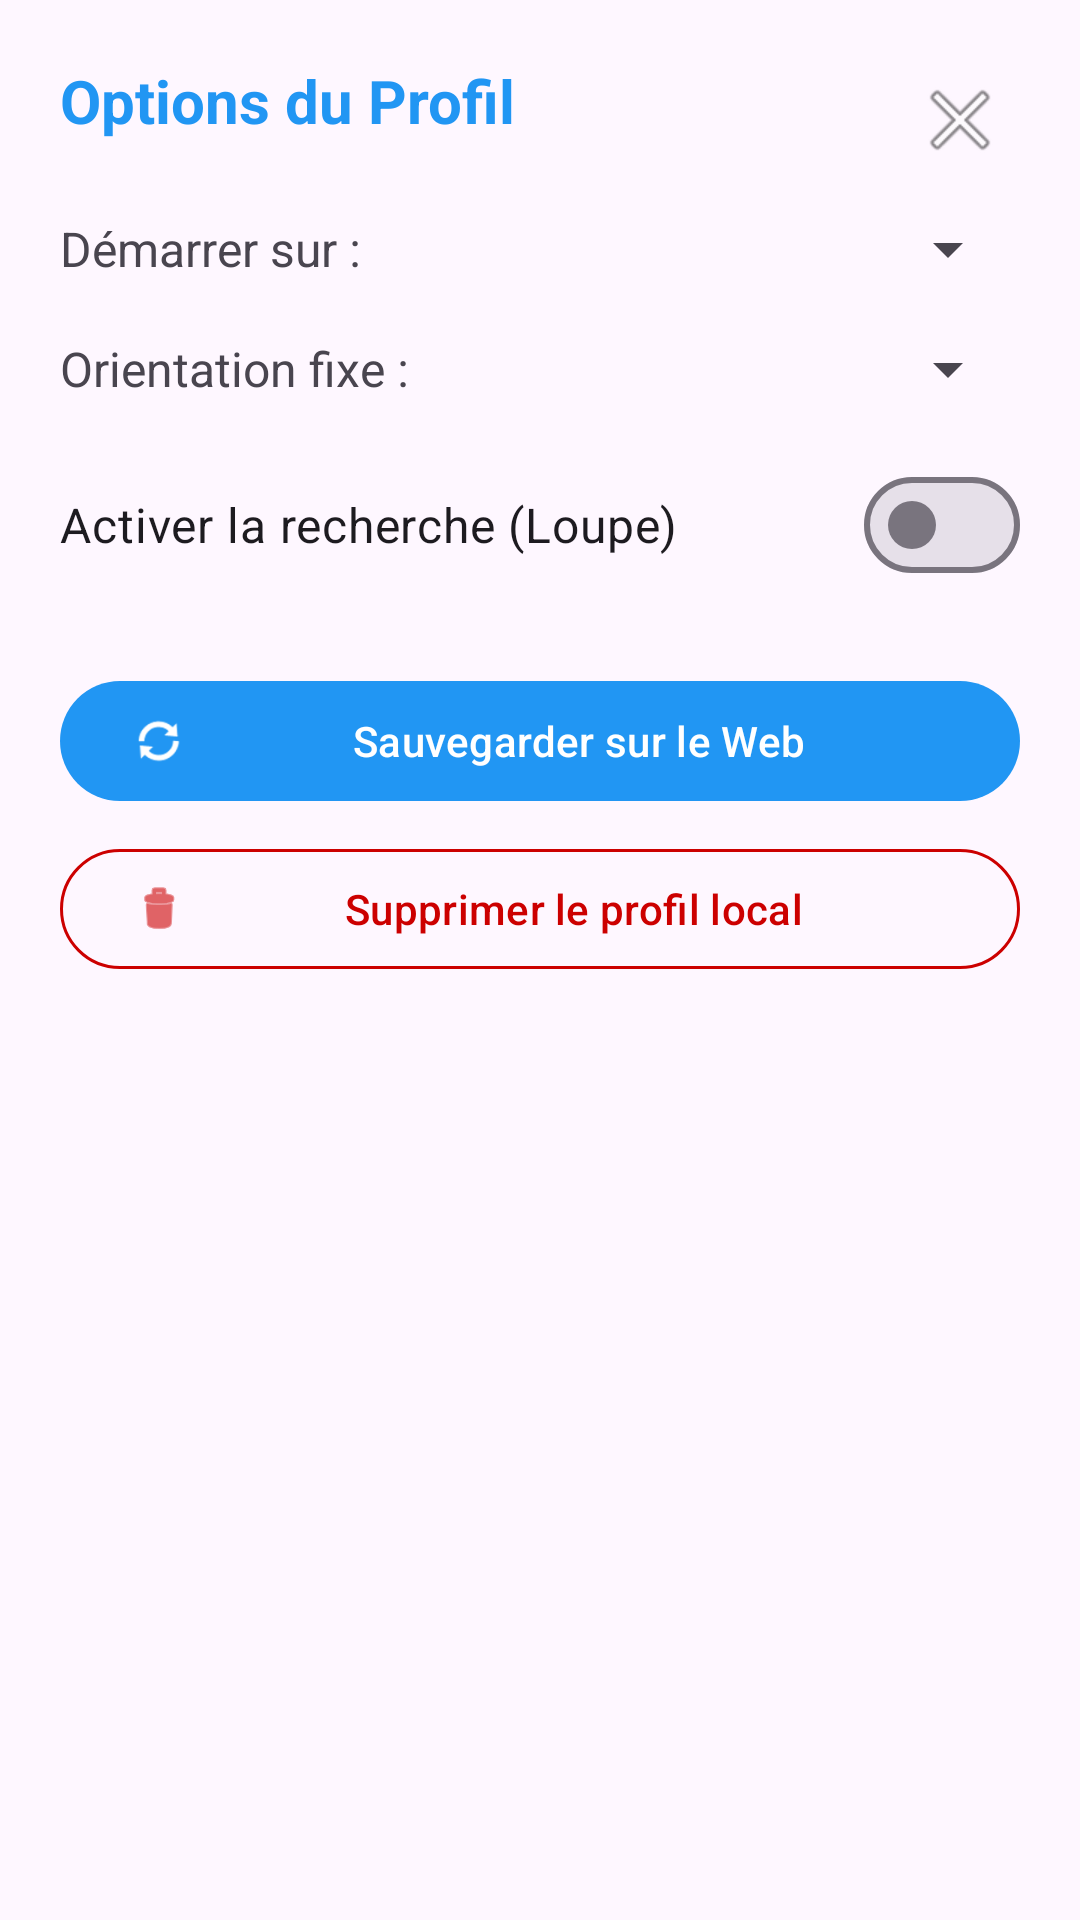

Icons on this 1080x1920 Android screen, each with its box as box(x1, y1, x2, y2):
Fermer: box(930, 90, 990, 150)
